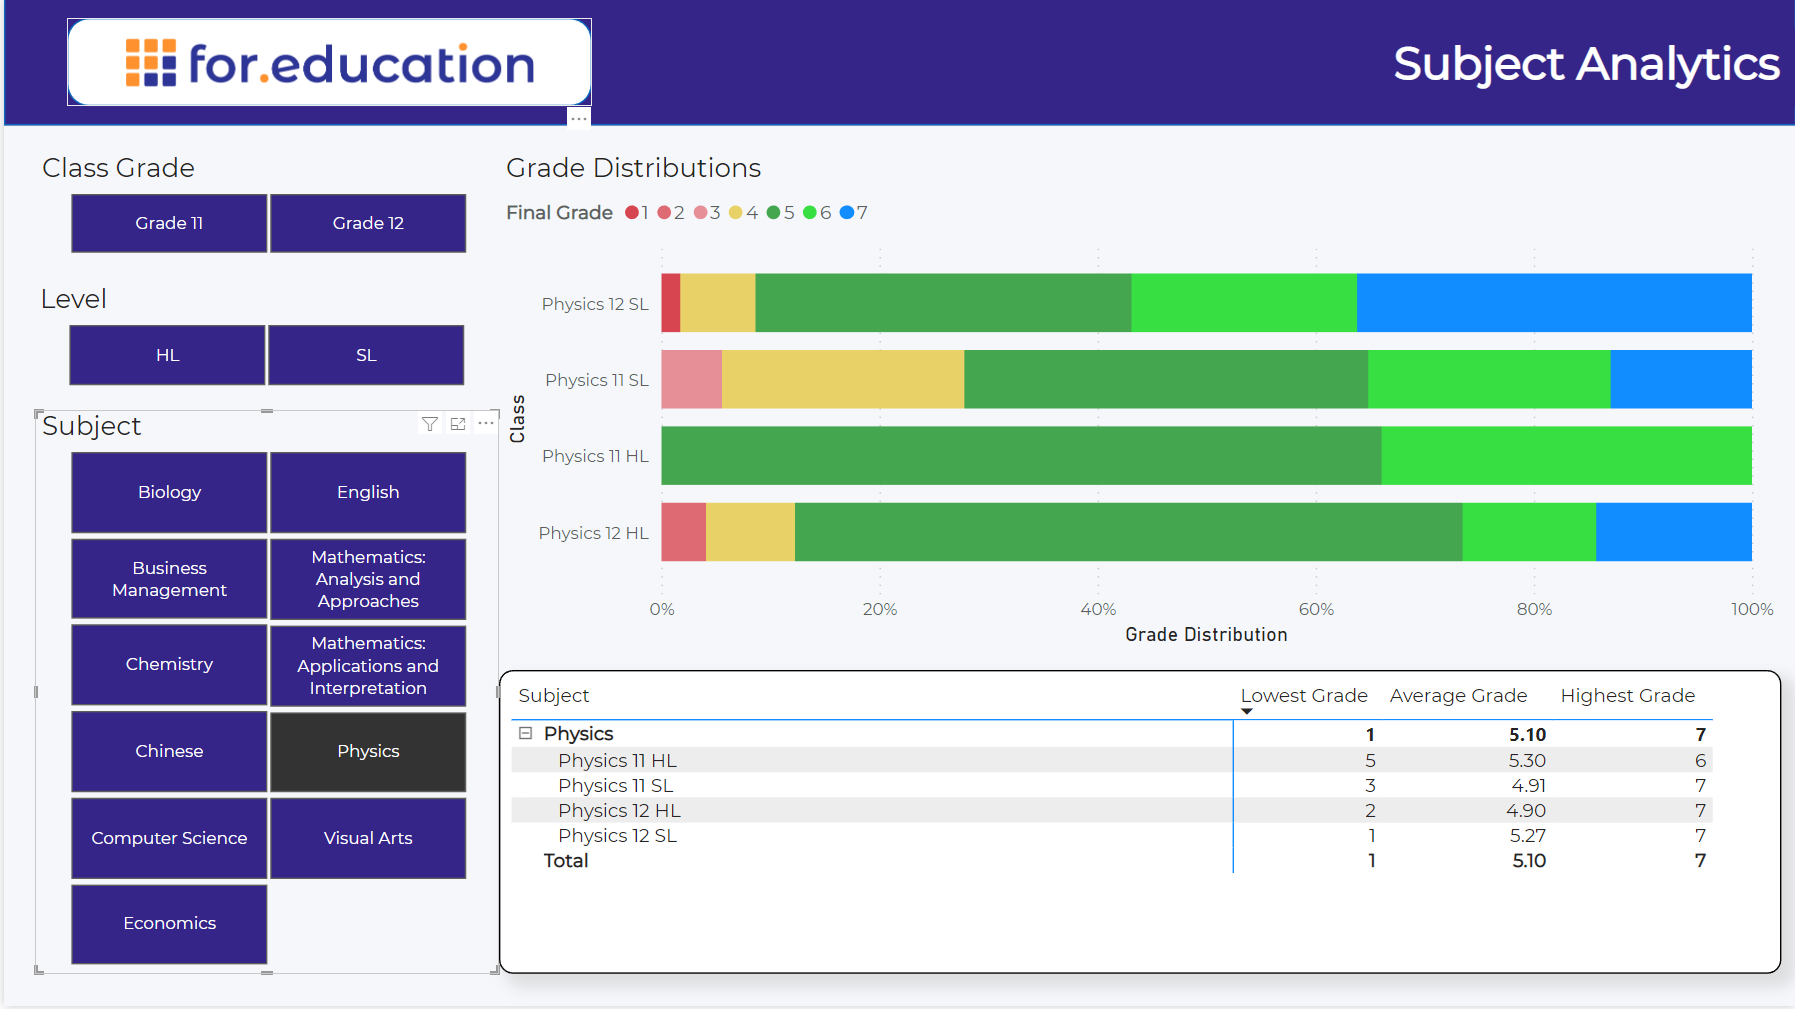

What the dashboard file says about the page in this screenshot:
{"tool":"powerbi","page":{"name":"Subject View","canvas":[1280,720],"ordinal":1},"visuals":[{"type":"shape","box":[0,0,1280,90.9],"z":0},{"type":"shape","box":[44.9,14,375.4,62.9],"z":1000},{"type":"image","box":[81.9,22,300.5,46.9],"z":2000},{"type":"textbox","box":[988.2,21.8,291.8,55.2],"z":3000},{"type":"pivotTable","fields":{"Rows":["diploma_term_grades.subject","diploma_term_grades.class_name"],"Values":["Min(diploma_term_grades.correct_final_grade)","Avg(diploma_term_grades.correct_final_grade)","Max(diploma_term_grades.correct_final_grade)"]},"box":[353.9,480.3,915.8,217.2],"z":4000},{"type":"slicer","title":"Class Grade","fields":{"Values":["diploma_term_grades.grade"]},"box":[21.8,110.3,332.1,79.3],"z":5000},{"type":"slicer","title":"Level","fields":{"Values":["diploma_term_grades.level"]},"box":[20.7,203.4,332.1,80.4],"z":6000},{"type":"slicer","title":"Subject","fields":{"Values":["diploma_term_grades.subject"]},"box":[21.8,294.1,332.1,403.3],"z":7000},{"type":"hundredPercentStackedBarChart","title":"Grade Distributions","fields":{"Y":["Sum(diploma_term_grades.correct_final_grade)"],"Series":["diploma_term_grades.correct_final_grade"],"Category":["diploma_term_grades.class_name"]},"box":[353.9,110.3,915.8,357.3],"z":8000}]}

Visuals, with their boxes in screenshot pixels (x1, y1, x2, y2), scaled from the page's 1280x720 canvas onto the 1795x1009 screenshot:
shape: 0:0:1794:127
shape: 63:20:589:108
image: 115:31:536:97
textbox: 1386:31:1794:108
pivotTable - diploma_term_grades.subject x diploma_term_grades.class_name: 496:673:1781:977
"Class Grade" slicer: 31:155:496:266
"Level" slicer: 29:285:495:398
"Subject" slicer: 31:412:496:977
"Grade Distributions" hundredPercentStackedBarChart: 496:155:1781:655
